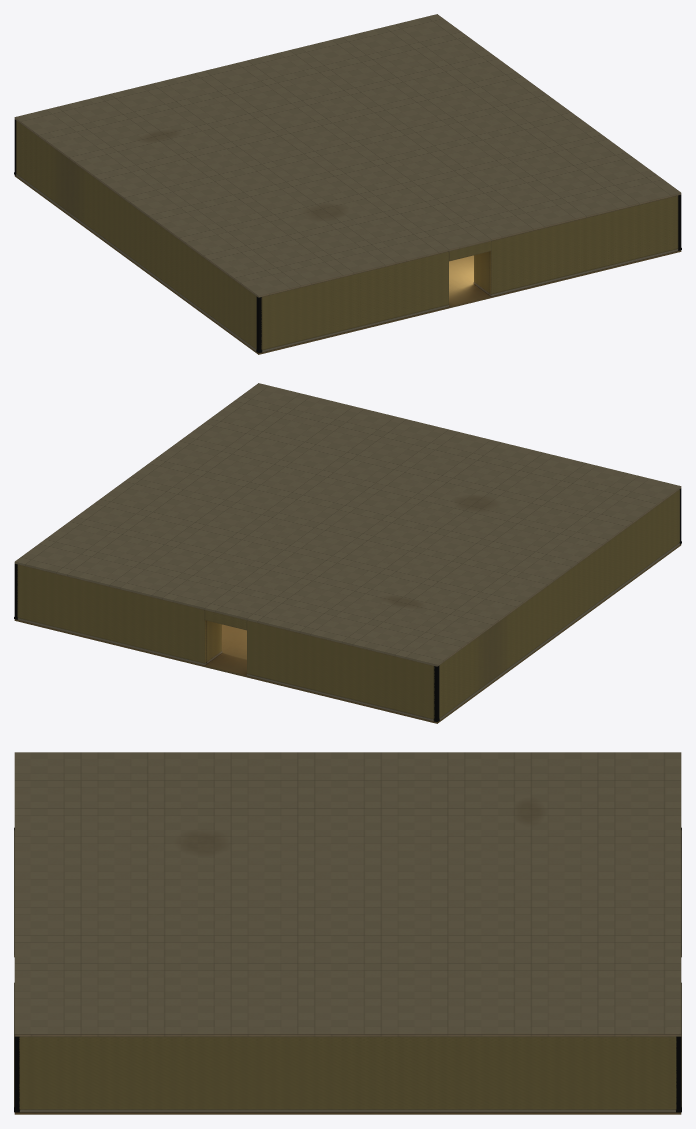
The picture shows the model from 3 angles, top to bottom: view 1: azimuth 30°, elevation 25°; view 2: azimuth 150°, elevation 25°; view 3: azimuth 270°, elevation 25°; orthographic projection. The views are drawn at different scales.
Visible parts, largest first — view 1: Ceiling, Walls, Floor, Pillars; view 2: Ceiling, Walls, Floor, Pillars; view 3: Ceiling, Walls, Pillars, Floor.
Part boxes in pixels (x1,y1,x2,y2): Ceiling: (14, 14, 681, 297); Walls: (14, 119, 681, 350); Floor: (14, 175, 681, 354); Pillars: (14, 172, 681, 353); Ceiling: (14, 383, 681, 666); Walls: (14, 488, 681, 719); Floor: (14, 544, 681, 723); Pillars: (14, 541, 681, 722); Ceiling: (14, 752, 681, 1036); Walls: (14, 1036, 681, 1109); Pillars: (14, 827, 681, 1112); Floor: (14, 1112, 681, 1114).
Size of what is drawn, in the model's own units: 24.04 by 3.2 by 24.04.
Materials: 7 (5 with a texture image).
